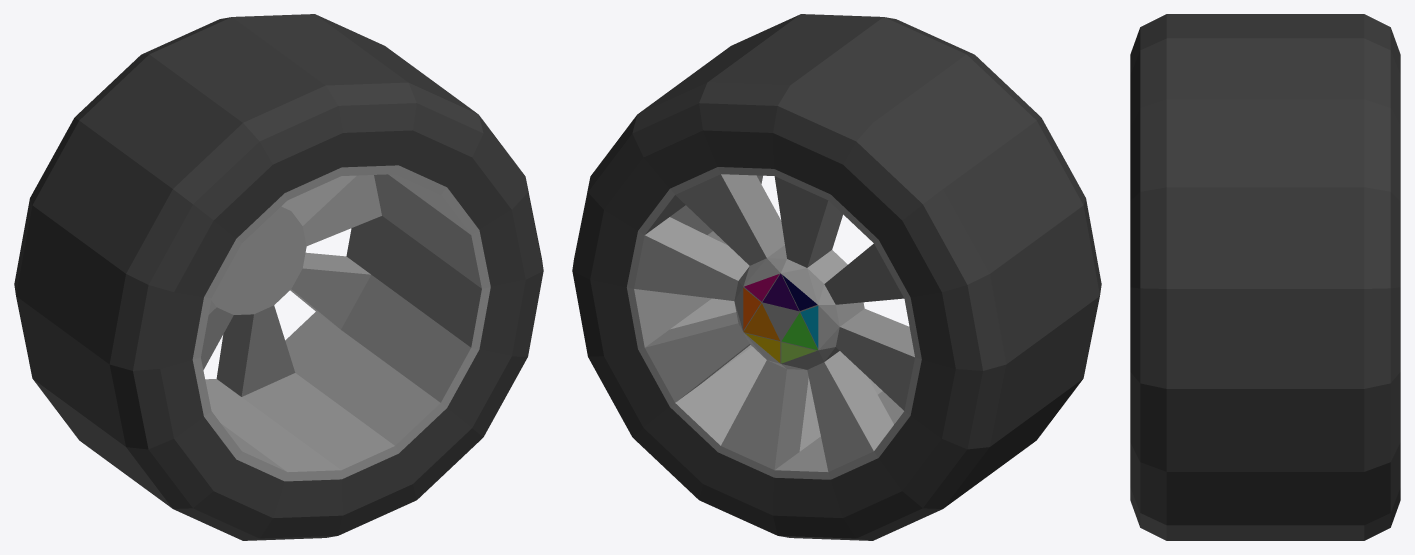
Rendered from Tire_PolyLabs.fbx.
3 views of the same model, side by side, from view 1: azimuth 30°, elevation 25°; view 2: azimuth 150°, elevation 25°; view 3: azimuth 270°, elevation 25° (orthographic). The views are drawn at different scales.
Parts seen in each view (by area): view 1: Tire_PolyLabs; view 2: Tire_PolyLabs; view 3: Tire_PolyLabs.
Boxes of the visible parts, x1=… form: Tire_PolyLabs: x1=14, y1=14, x2=543, y2=540; Tire_PolyLabs: x1=572, y1=14, x2=1101, y2=540; Tire_PolyLabs: x1=1130, y1=14, x2=1400, y2=540.
Bounding box in the file's own units: 100 × 100 × 51.25.
